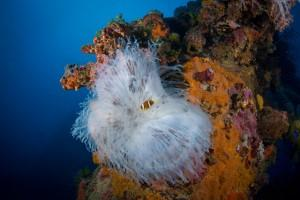bleached_corals: (57, 28, 246, 200)
